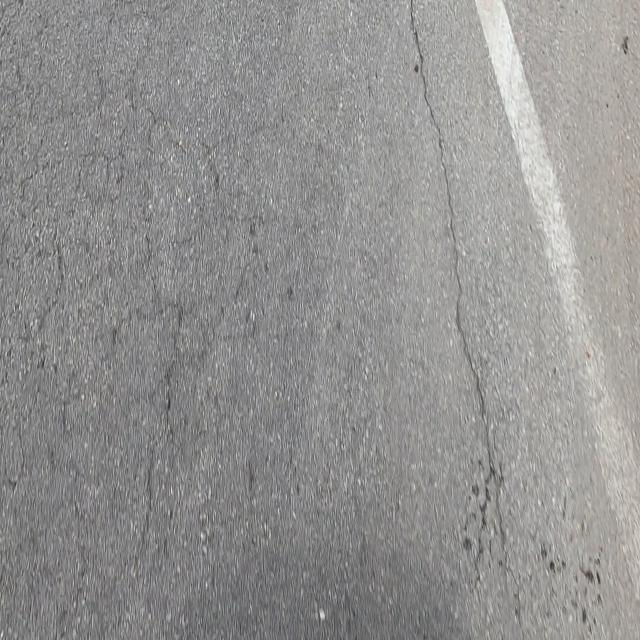Retak-Memanjang: (407, 0, 507, 553)
